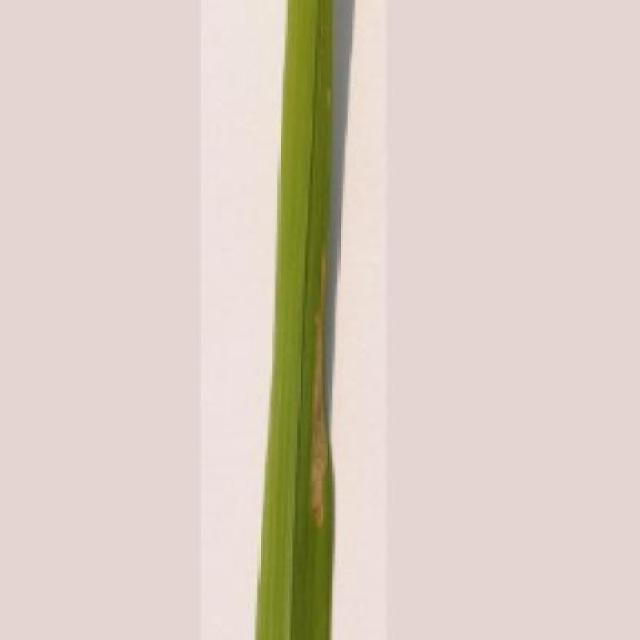Brown_Spot: (253, 0, 339, 640)
